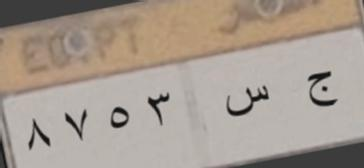3: (143, 90, 177, 134)
5: (102, 100, 134, 140)
7: (60, 106, 90, 148)
8: (20, 115, 52, 156)
jeem: (301, 69, 339, 116)
seen: (221, 81, 277, 121)
